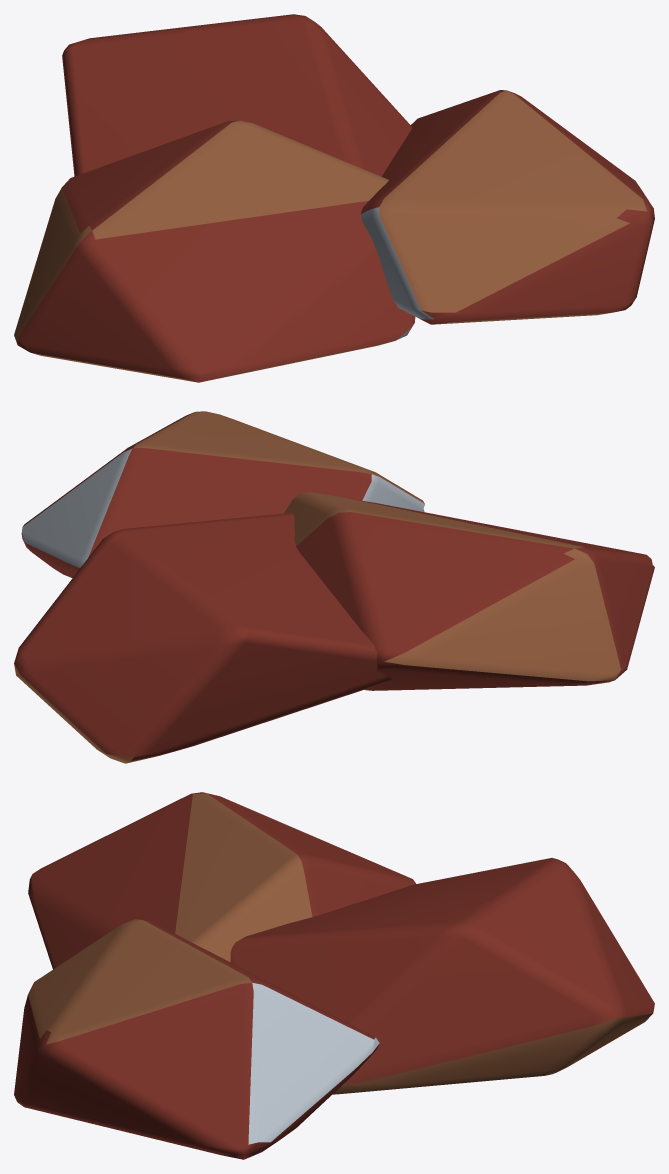
Rendered from minerai_fer_2.glb.
The picture shows the model from 3 angles, top to bottom: view 1: azimuth 30°, elevation 25°; view 2: azimuth 150°, elevation 25°; view 3: azimuth 270°, elevation 25°; orthographic projection. The views are drawn at different scales.
Visible parts, largest first — view 1: minerai_hematite.004, minerai_rouille.004, minerai_fer_metal.004; view 2: minerai_hematite.004, minerai_rouille.004, minerai_fer_metal.004; view 3: minerai_hematite.004, minerai_rouille.004, minerai_fer_metal.004.
Boxes of the visible parts, bbox=[...] form: minerai_hematite.004: bbox=[17, 14, 654, 382]; minerai_rouille.004: bbox=[14, 90, 647, 382]; minerai_fer_metal.004: bbox=[360, 207, 434, 340]; minerai_hematite.004: bbox=[14, 412, 654, 761]; minerai_rouille.004: bbox=[14, 411, 620, 763]; minerai_fer_metal.004: bbox=[22, 449, 424, 567]; minerai_hematite.004: bbox=[14, 792, 654, 1159]; minerai_rouille.004: bbox=[28, 792, 652, 1093]; minerai_fer_metal.004: bbox=[248, 983, 379, 1144].
Size of the model in its own units: 0.5344 by 0.1208 by 0.5006.
